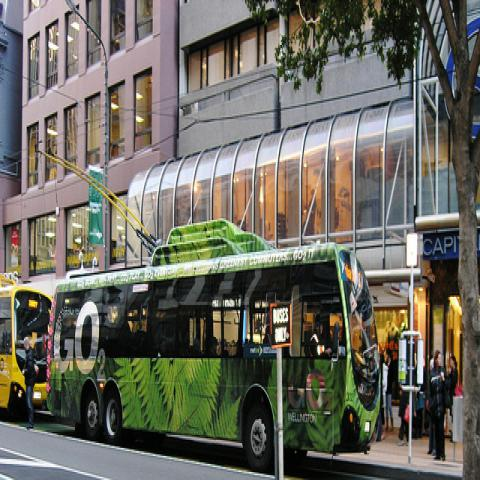bus: (46, 217, 381, 466), (0, 266, 52, 420)
